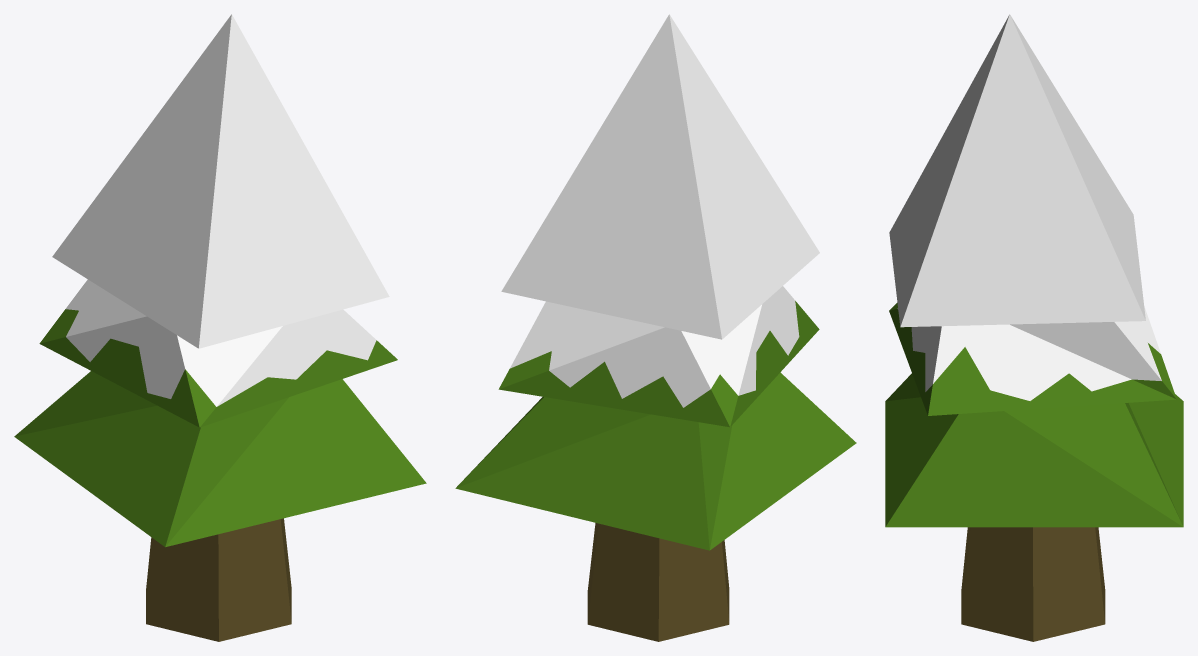
The model's file is Tree_Pine_Winter_Snow_Capped_01.fbx.
3 views of the same model, side by side, from view 1: azimuth 30°, elevation 25°; view 2: azimuth 150°, elevation 25°; view 3: azimuth 270°, elevation 25° (orthographic). The views are drawn at different scales.
Visible parts, largest first — view 1: Tree_Pine_Winter_Snow_Capped_01; view 2: Tree_Pine_Winter_Snow_Capped_01; view 3: Tree_Pine_Winter_Snow_Capped_01.
Boxes of the visible parts, x1,y1,x2,y2 form: Tree_Pine_Winter_Snow_Capped_01: (14,14,426,641); Tree_Pine_Winter_Snow_Capped_01: (455,14,856,641); Tree_Pine_Winter_Snow_Capped_01: (885,14,1183,641).
Bounding box in the file's own units: 57.44 × 126 × 57.44.
